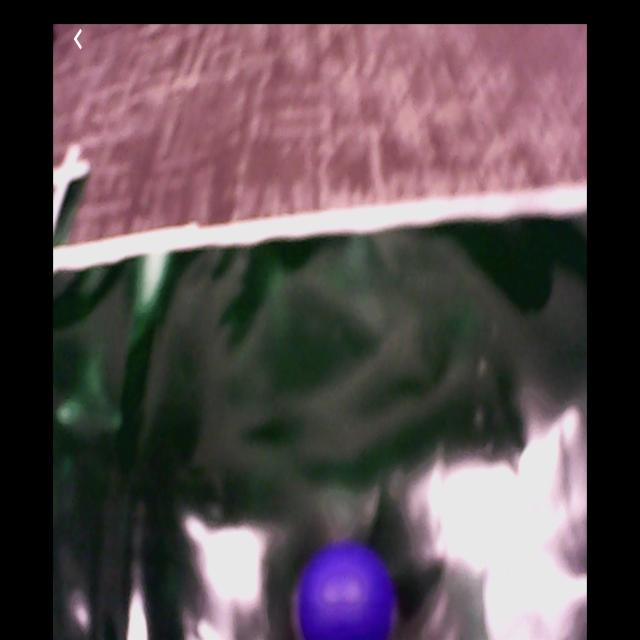ball: (300, 546, 394, 640)
